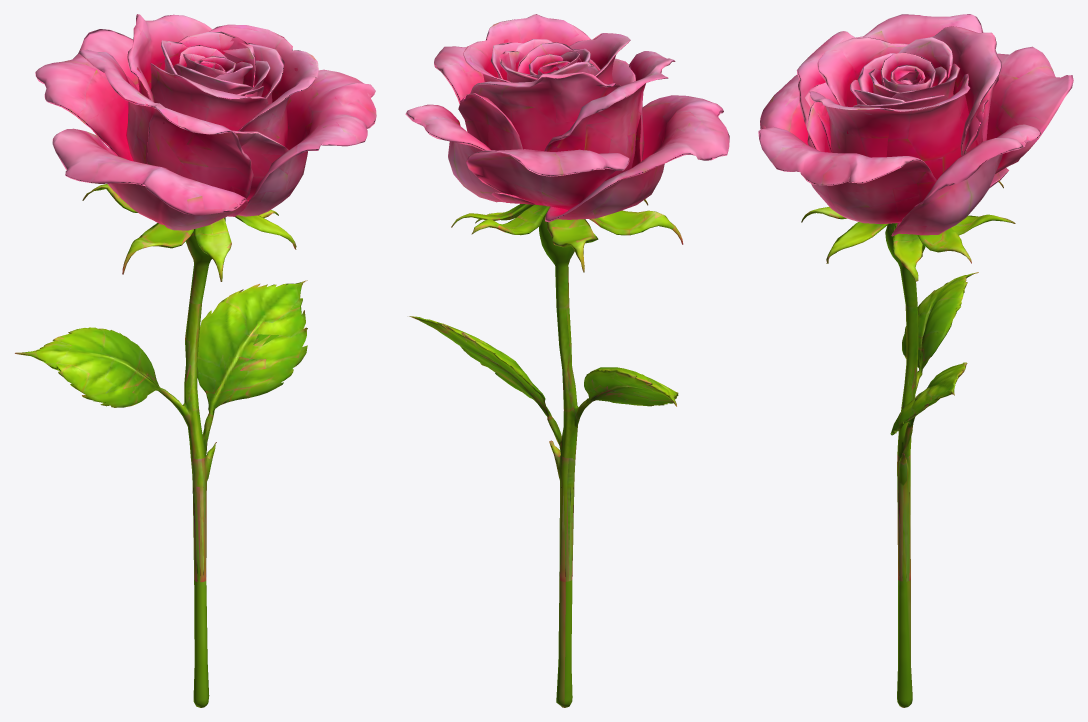
File: rose_pink.glb
3 renders of one model, left to right at view 1: azimuth 30°, elevation 25°; view 2: azimuth 150°, elevation 25°; view 3: azimuth 270°, elevation 25°, orthographic.
Visible parts, largest first — view 1: geometry_0; view 2: geometry_0; view 3: geometry_0.
Boxes of the visible parts, x1,y1,x2,y2 form: geometry_0: (15,14,376,707); geometry_0: (405,14,729,707); geometry_0: (758,14,1073,707).
Bounding box in the file's own units: 0.4458 × 0.9512 × 0.4087.
Materials: 1 (1 with a texture image).
